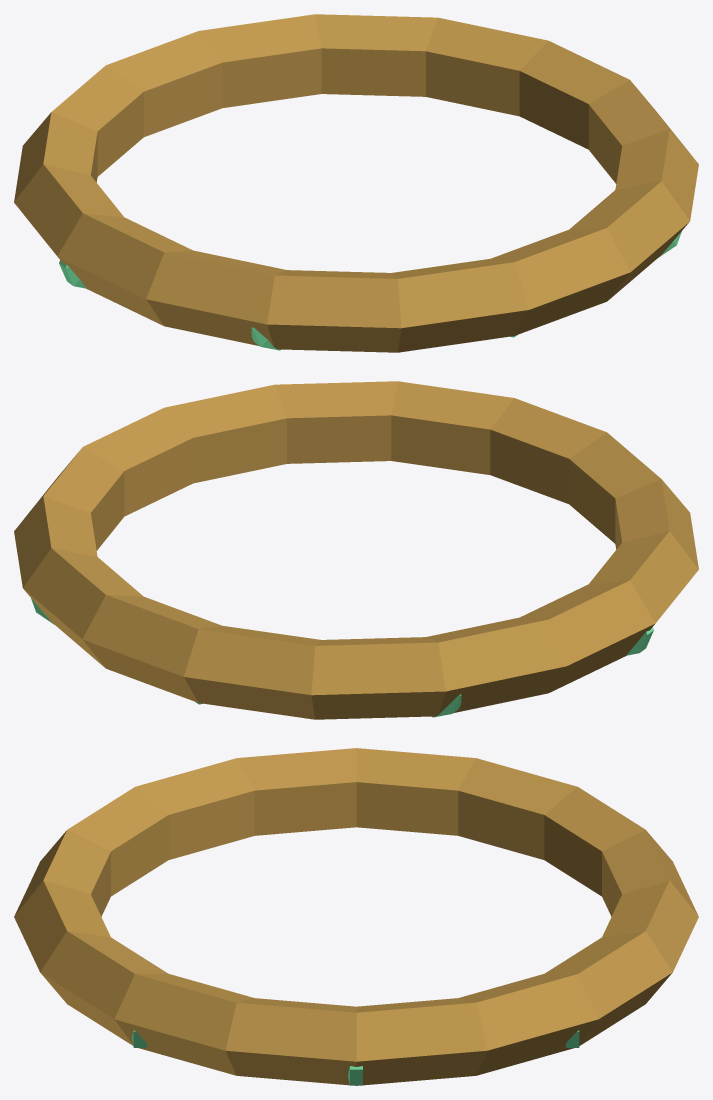
Rendered from eight_tone_ring.obj.
3 renders of one model, top to bottom at view 1: azimuth 30°, elevation 25°; view 2: azimuth 150°, elevation 25°; view 3: azimuth 270°, elevation 25°, orthographic.
Parts seen in each view (by area): view 1: tone_ring_outer; view 2: tone_ring_outer; view 3: tone_ring_outer.
Part boxes in pixels (<box>): tone_ring_outer: <box>14,14,698,352</box>; tone_ring_outer: <box>14,381,698,719</box>; tone_ring_outer: <box>14,748,698,1085</box>.
Bounding box in the file's own units: 1.21 × 0.1463 × 1.21.
